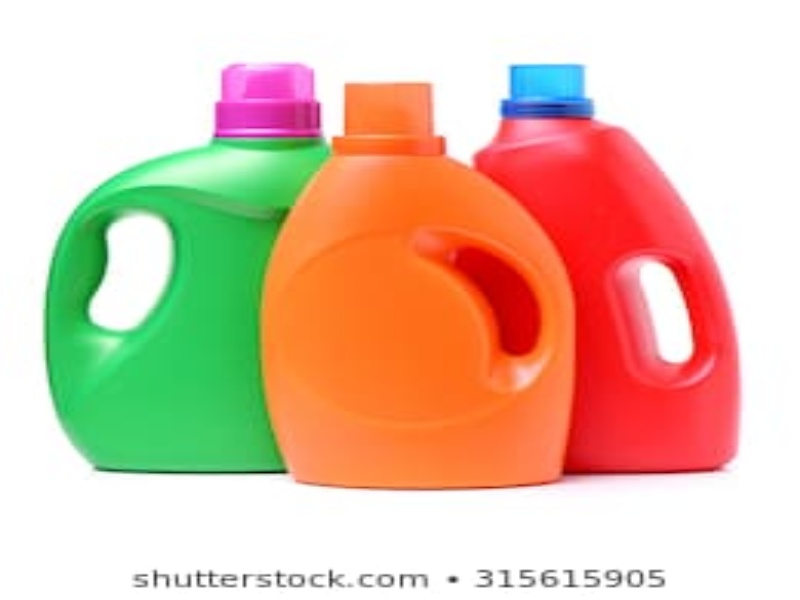bottle-cap: (208, 64, 321, 138), (334, 79, 446, 153), (498, 61, 597, 119)
detergent-bottle: (259, 79, 585, 489), (470, 64, 747, 472), (47, 59, 319, 474)
